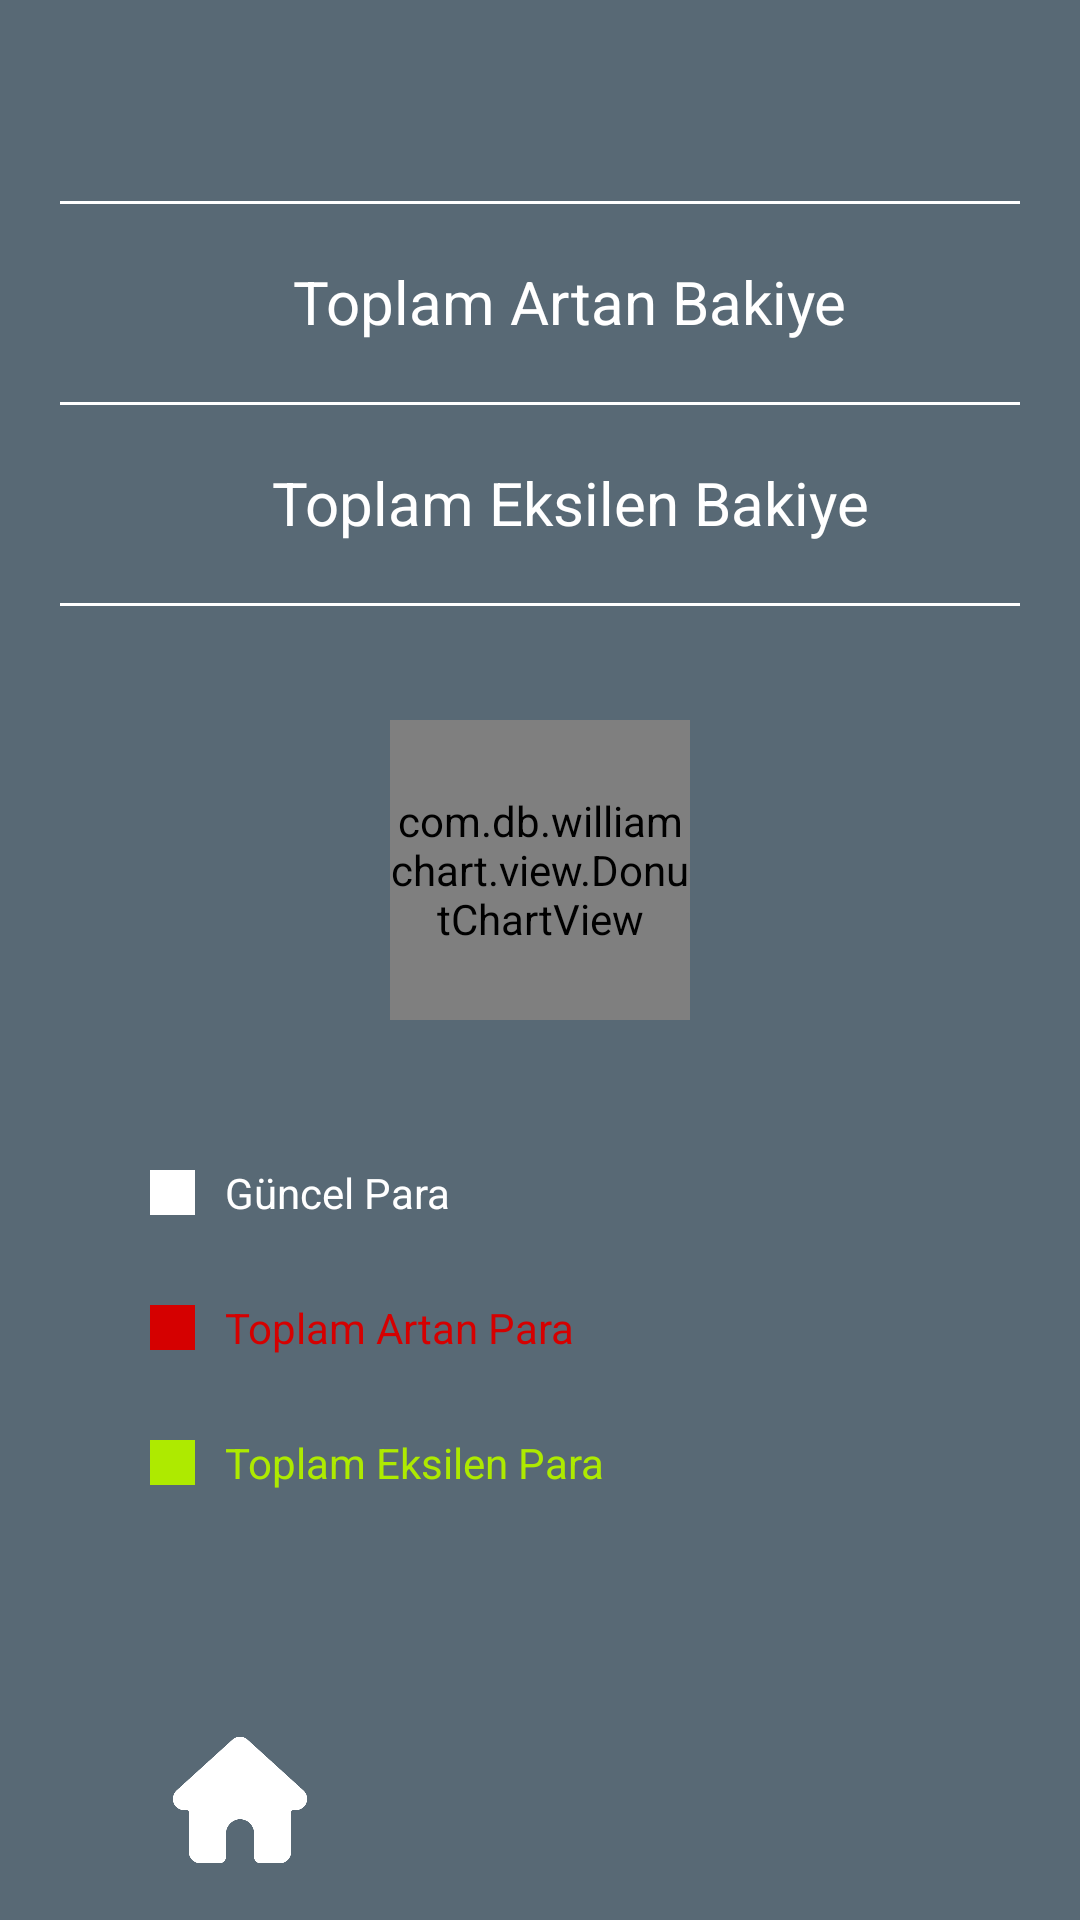

Named icons in this screenshot (1080w x 1920h) and their centers, [x,y]:
home: [240,1800]
